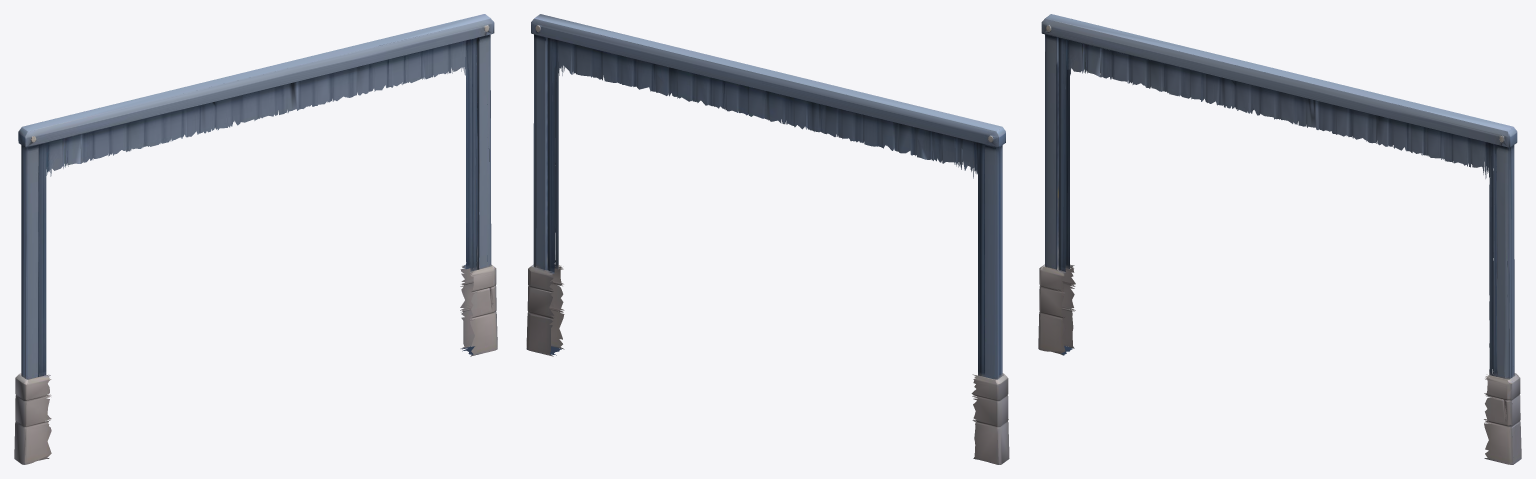
File: freight_frame.glb
3 renders of one model, left to right at view 1: azimuth 30°, elevation 25°; view 2: azimuth 150°, elevation 25°; view 3: azimuth 330°, elevation 25°, orthographic.
Parts seen in each view (by area): view 1: Industrial_freight_frame; view 2: Industrial_freight_frame; view 3: Industrial_freight_frame.
Boxes of the visible parts, left/top/right/bottom form: Industrial_freight_frame: left=14, top=14, right=497, bottom=464; Industrial_freight_frame: left=526, top=14, right=1009, bottom=464; Industrial_freight_frame: left=1038, top=14, right=1521, bottom=464.
Size of the model in its own units: 4.5 by 3 by 0.1667.
Materials: 1 (1 with a texture image).
